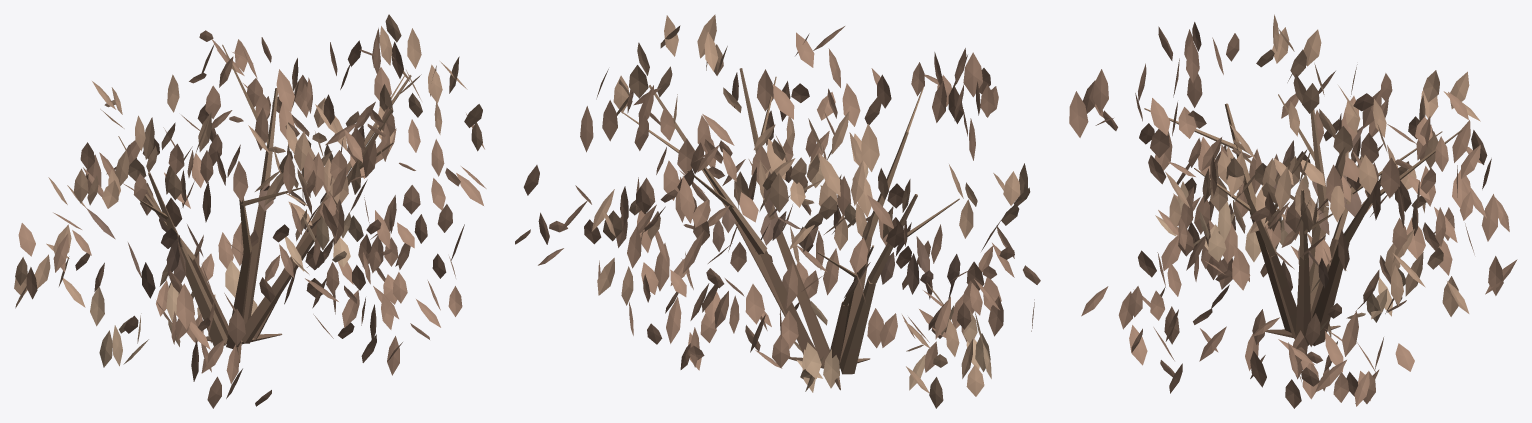
The model's file is bush_3d_05_copper.glb.
3 views of the same model, side by side, from view 1: azimuth 30°, elevation 25°; view 2: azimuth 150°, elevation 25°; view 3: azimuth 270°, elevation 25° (orthographic). The views are drawn at different scales.
Parts seen in each view (by area): view 1: bush_3d_05_copper_foliage, bush_3d_05_copper_wood; view 2: bush_3d_05_copper_foliage, bush_3d_05_copper_wood; view 3: bush_3d_05_copper_foliage, bush_3d_05_copper_wood.
Part boxes in pixels (left/top/right/bottom): bush_3d_05_copper_foliage: left=14, top=14, right=486, bottom=408; bush_3d_05_copper_wood: left=118, top=44, right=411, bottom=362; bush_3d_05_copper_foliage: left=515, top=14, right=1040, bottom=408; bush_3d_05_copper_wood: left=621, top=68, right=959, bottom=390; bush_3d_05_copper_foliage: left=1069, top=14, right=1517, bottom=408; bush_3d_05_copper_wood: left=1144, top=94, right=1462, bottom=346.
Size of the model in its own units: 3 by 1.65 by 2.3.
